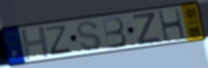B: (101, 16, 128, 51)
H: (19, 24, 52, 63), (157, 7, 187, 43)
S: (75, 20, 103, 52)
Z: (131, 11, 162, 46), (45, 23, 72, 57)
